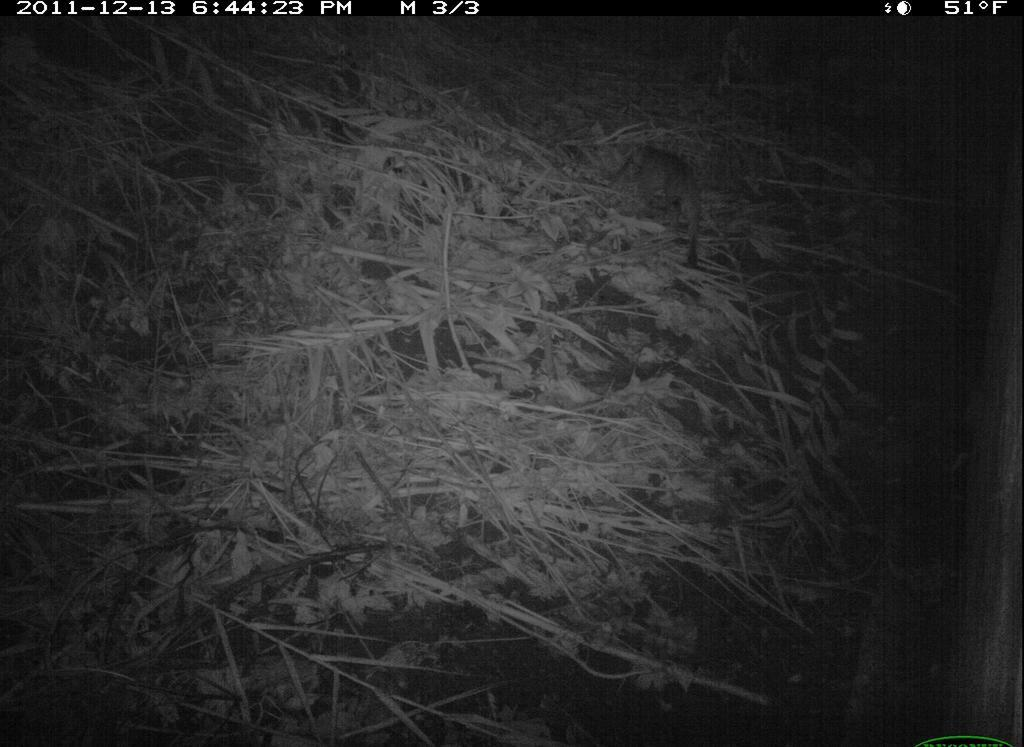bobcat: (605, 121, 728, 283)
